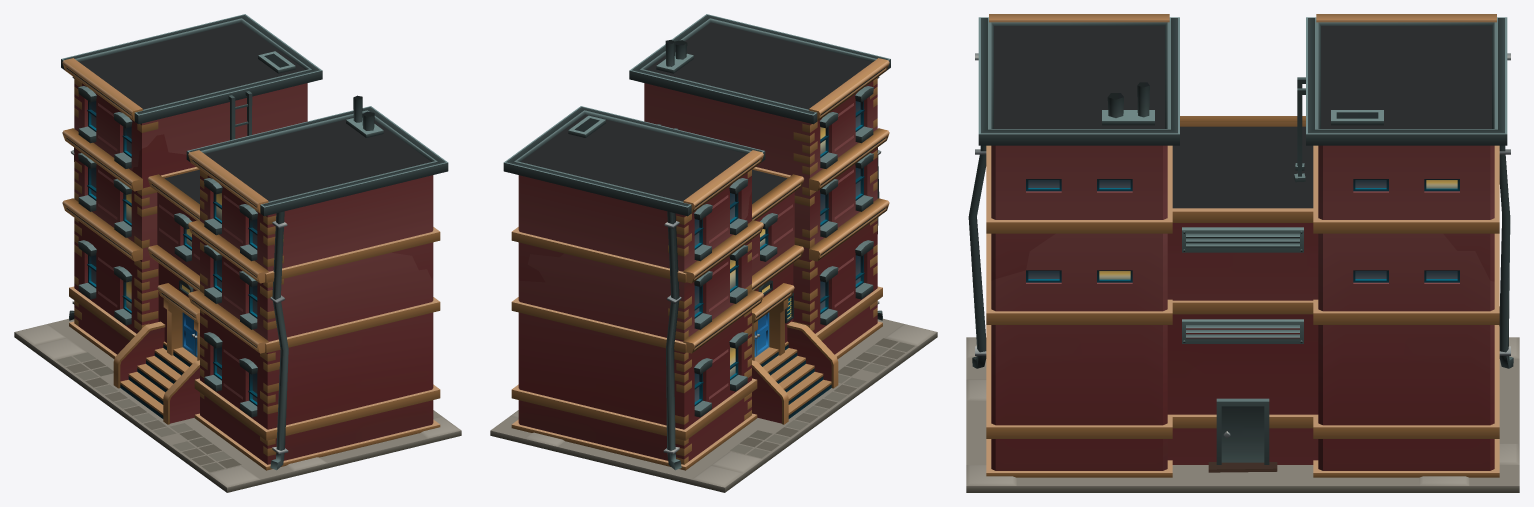
File: Building_5B.fbx
3 renders of one model, left to right at view 1: azimuth 30°, elevation 25°; view 2: azimuth 150°, elevation 25°; view 3: azimuth 270°, elevation 25°, orthographic. The views are drawn at different scales.
Visible parts, largest first — view 1: Building_5B, Window_Lights_5B; view 2: Building_5B, Window_Lights_5B; view 3: Building_5B.
Boxes of the visible parts, x1,y1,x2,y2 form: Building_5B: (14, 14, 461, 492); Window_Lights_5B: (126, 193, 221, 310); Building_5B: (490, 14, 937, 492); Window_Lights_5B: (730, 127, 825, 376); Building_5B: (966, 14, 1519, 492).
Size of the model in its own units: 1400 by 1693 by 2200.
